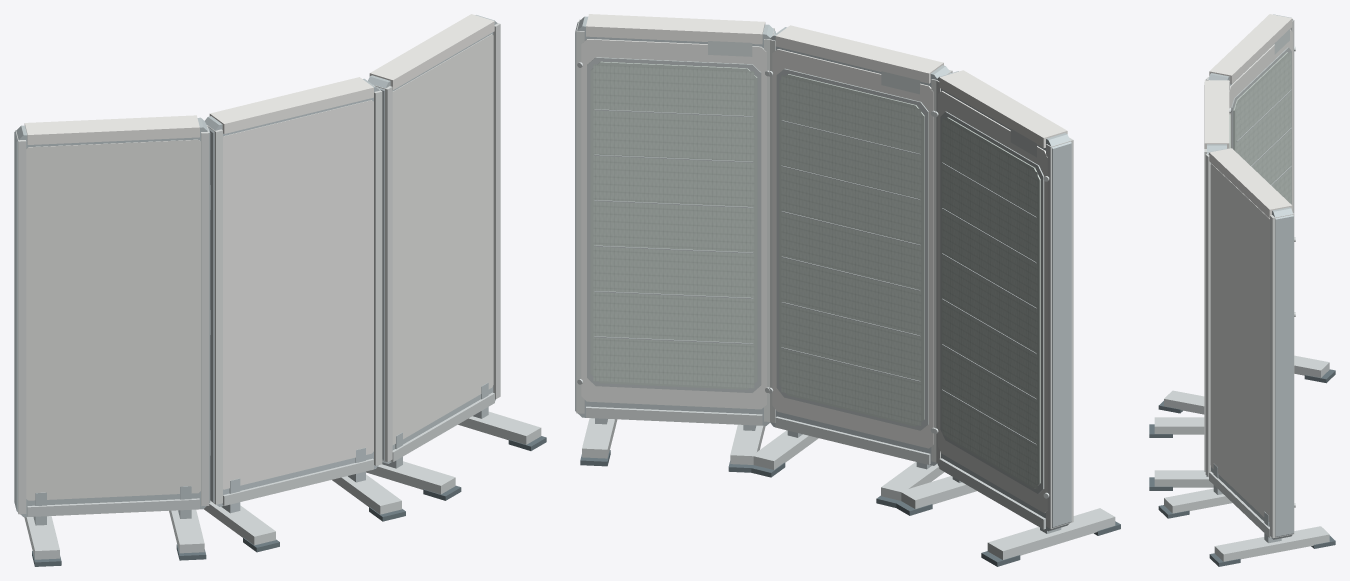
Rendered from privacy_divider.glb.
3 renders of one model, left to right at view 1: azimuth 30°, elevation 25°; view 2: azimuth 150°, elevation 25°; view 3: azimuth 270°, elevation 25°, orthographic. The views are drawn at different scales.
Visible parts, largest first — view 1: Panel_Left__bone, Panel_Centre__bone, Panel_Right__bone, Panel_Centre__satinsteel, Panel_Left__satinsteel, Panel_Right__satinsteel, Panel_Centre__steel, Panel_Left__graphite, Panel_Right__steel, Panel_Left__steel, Panel_Left__cream, Panel_Centre__graphite (+3 smaller); view 2: Panel_Right__woven, Panel_Centre__woven, Panel_Left__woven, Panel_Right__bone, Panel_Centre__bone, Panel_Left__graphite, Panel_Right__fabricdark, Panel_Left__bone, Panel_Centre__fabricdark, Panel_Left__steel, Panel_Centre__steel, Panel_Right__steel (+10 smaller); view 3: Panel_Right__bone, Panel_Right__graphite, Panel_Left__woven, Panel_Right__satinsteel, Panel_Right__steel, Panel_Right__cream, Panel_Left__cream, Panel_Centre__steel, Panel_Centre__cream, Panel_Left__steel, Panel_Left__bone, Panel_Left__fabricdark (+5 smaller).
Boxes of the visible parts, x1,y1,x2,y2 form: Panel_Left__bone: (26, 139, 200, 500); Panel_Centre__bone: (223, 100, 373, 489); Panel_Right__bone: (392, 34, 493, 444); Panel_Centre__satinsteel: (207, 86, 382, 504); Panel_Left__satinsteel: (15, 125, 209, 514); Panel_Right__satinsteel: (373, 23, 500, 462); Panel_Centre__steel: (204, 458, 401, 545); Panel_Left__graphite: (14, 117, 210, 525); Panel_Right__steel: (366, 392, 541, 494); Panel_Left__steel: (24, 498, 204, 559); Panel_Left__cream: (24, 115, 199, 144); Panel_Centre__graphite: (205, 78, 379, 513); Panel_Right__woven: (590, 61, 757, 389); Panel_Centre__woven: (779, 74, 924, 426); Panel_Left__woven: (941, 117, 1040, 489); Panel_Right__bone: (581, 39, 766, 409); Panel_Centre__bone: (772, 49, 933, 448); Panel_Left__graphite: (937, 71, 1071, 533); Panel_Right__fabricdark: (587, 57, 761, 392); Panel_Left__bone: (938, 91, 1047, 513); Panel_Centre__fabricdark: (776, 68, 928, 430); Panel_Left__steel: (900, 111, 1115, 559); Panel_Centre__steel: (752, 71, 944, 500); Panel_Right__steel: (577, 62, 769, 464); Panel_Right__bone: (1210, 163, 1269, 522); Panel_Right__graphite: (1208, 148, 1293, 543); Panel_Left__woven: (1233, 52, 1291, 203); Panel_Right__satinsteel: (1205, 154, 1294, 538); Panel_Right__steel: (1164, 237, 1329, 561); Panel_Right__cream: (1209, 148, 1292, 218); Panel_Left__cream: (1209, 14, 1292, 84); Panel_Centre__steel: (1154, 108, 1230, 487); Panel_Centre__cream: (1204, 80, 1229, 148); Panel_Left__steel: (1164, 46, 1329, 414); Panel_Left__bone: (1229, 29, 1292, 212); Panel_Left__fabricdark: (1231, 47, 1291, 204).
Bounding box in the file's own units: 2.36 × 1.78 × 0.8662.
12 materials, 1 textured.
